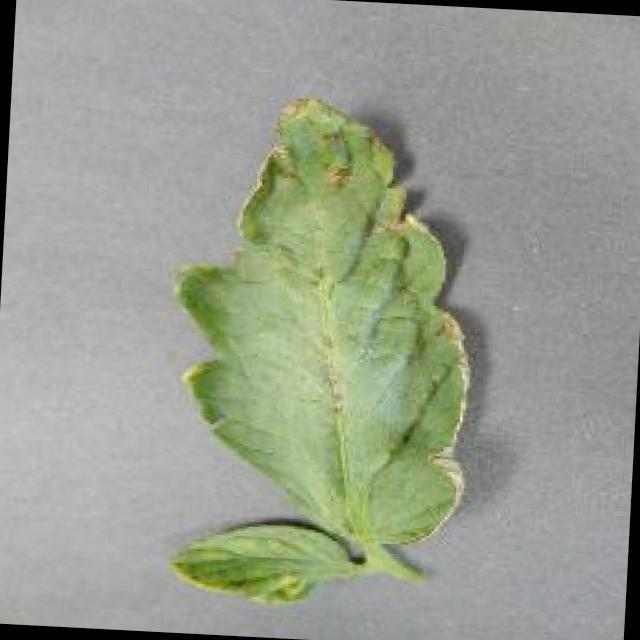Tomato bacterial spot leaf: (153, 86, 491, 622)
